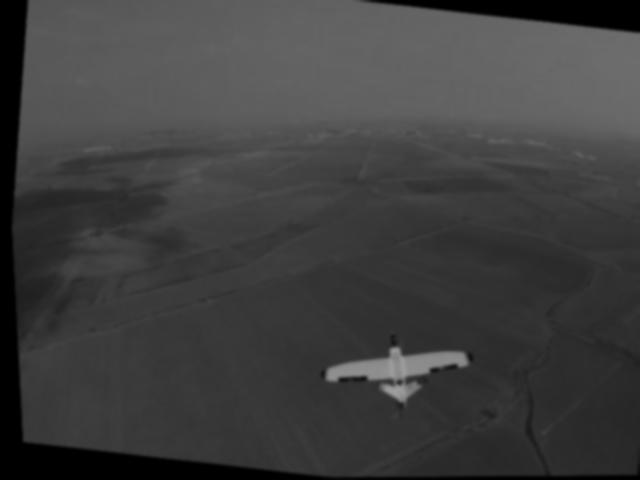hedef: (307, 314, 480, 434)
